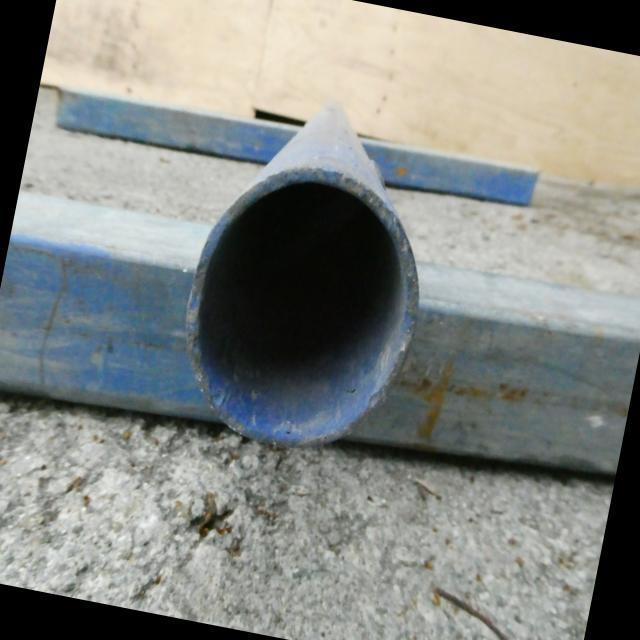pipe: (186, 171, 421, 449)
